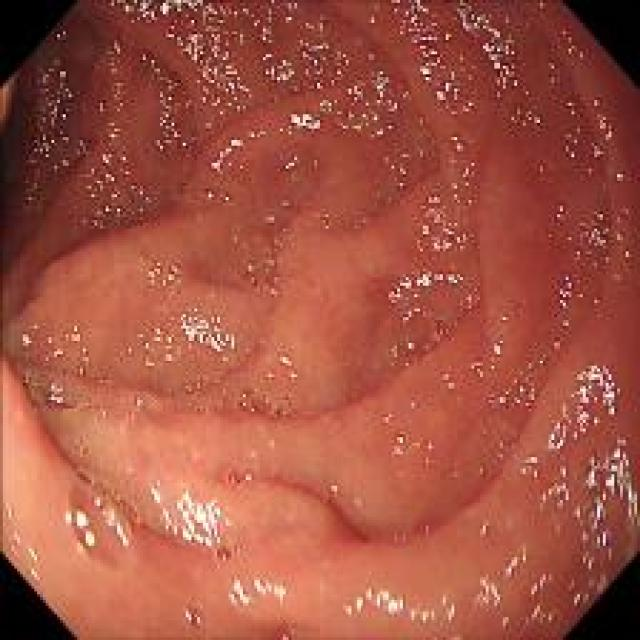bubbles: (106, 239, 301, 318), (179, 381, 311, 436), (61, 484, 130, 566), (379, 411, 439, 464), (381, 306, 434, 360), (29, 370, 82, 411), (259, 234, 284, 292), (338, 100, 372, 132), (146, 259, 184, 286), (176, 602, 209, 630), (101, 185, 126, 219), (224, 462, 256, 488), (124, 392, 148, 421), (216, 541, 241, 562), (241, 262, 260, 286), (542, 71, 564, 89)
color misalignment: (546, 361, 639, 569), (342, 588, 452, 622), (525, 575, 556, 624), (568, 571, 596, 602), (476, 568, 496, 604), (179, 608, 201, 625), (505, 555, 518, 574)
specularity: (546, 361, 639, 559), (19, 56, 71, 204), (389, 1, 458, 106), (120, 2, 331, 36), (246, 32, 352, 95), (125, 305, 235, 365), (311, 71, 409, 136), (75, 155, 148, 232), (179, 46, 254, 120), (138, 54, 198, 145), (459, 0, 520, 89), (540, 198, 625, 260), (340, 584, 456, 628), (149, 481, 222, 550), (415, 189, 475, 261), (91, 55, 129, 154), (445, 129, 489, 204), (568, 102, 610, 176), (376, 139, 424, 200), (472, 320, 514, 386), (498, 360, 548, 415), (552, 259, 585, 339), (191, 130, 244, 179), (18, 320, 95, 350), (516, 569, 556, 625), (91, 495, 129, 546), (229, 576, 288, 605), (512, 445, 551, 484), (471, 560, 500, 611), (192, 179, 232, 214), (62, 509, 96, 550), (538, 52, 568, 95), (392, 268, 462, 286), (499, 544, 534, 578), (264, 351, 302, 382), (568, 570, 598, 605), (565, 25, 590, 62), (26, 545, 42, 585), (401, 306, 421, 320), (2, 502, 15, 522), (479, 521, 491, 540)
